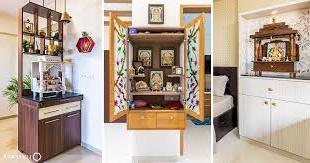bed: (211, 65, 237, 155)
door: (109, 12, 131, 122), (184, 13, 203, 122)
light: (59, 0, 74, 27), (270, 10, 279, 17)
table: (237, 74, 310, 160), (17, 92, 82, 163), (125, 109, 187, 158)
